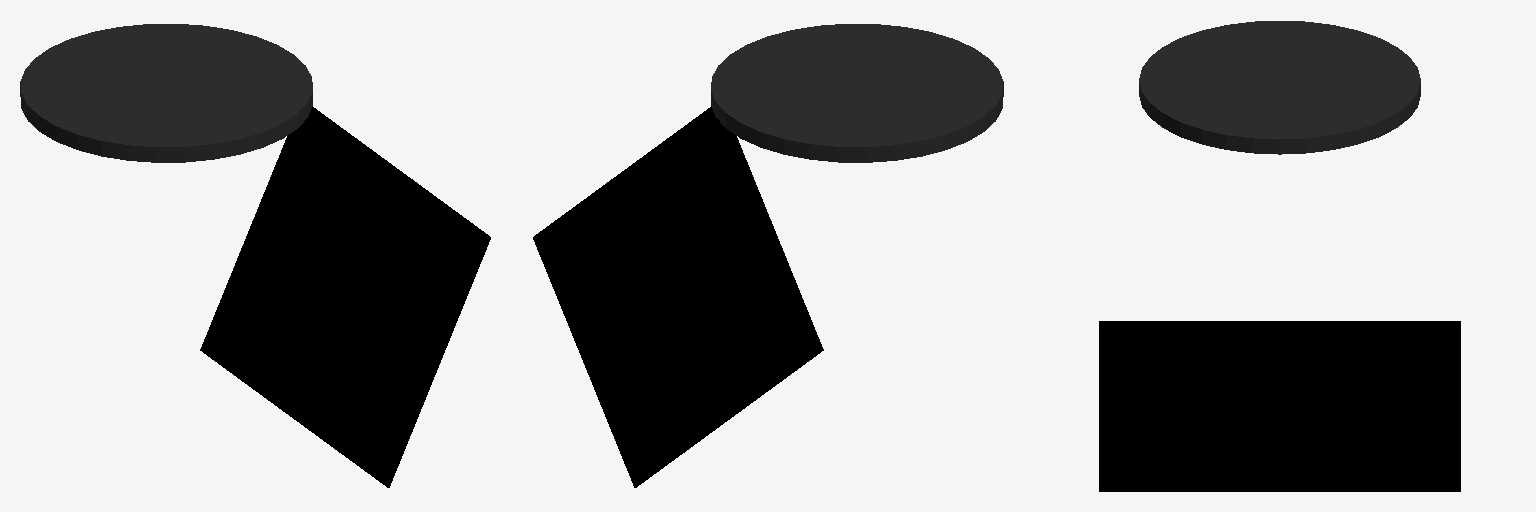
The robot description file, URDF, robot "baxter":
<?xml version="1.0"?>

<robot name="baxter">

  <link name="world" />

  <!-- First part: Torso -->
  <link name="base">
  </link>

  <link name="torso">
    <visual>
      <origin rpy="0 0 0" xyz="0 0 0"/>
      <geometry>
        <mesh filename="[local-path]/Research/commonData/robots/baxter/meshes/torso/base_link.DAE"/>
      </geometry>
    </visual>
    <collision>
      <origin rpy="0 0 0" xyz="0 0 0"/>
      <geometry>
        <mesh filename="[local-path]/Research/commonData/robots/baxter/meshes/torso/base_link_collision.DAE"/>
      </geometry>
    </collision>
    <inertial>
      <origin rpy="0 0 0" xyz="0.000000 0.000000 0.000000"/>
      <mass value="35.336455"/>
      <inertia ixx="1.849155" ixy="-0.000354" ixz="-0.154188" iyy="1.662671" iyz="0.003292" izz="0.802239"/>
    </inertial>
  </link>


  <link name="pedestal">
    <visual>
      <origin rpy="0 0 0" xyz="0 0 0"/>
      <geometry>
        <mesh filename="[local-path]/Research/commonData/robots/baxter/meshes/base/PEDESTAL.DAE"/>
      </geometry>
      <material name="darkgray">
        <color rgba=".2 .2 .2 1"/>
      </material>
    </visual>
    <collision>
      <origin rpy="0 0 0" xyz="0 0 0"/>
      <geometry>
        <mesh filename="[local-path]/Research/commonData/robots/baxter/meshes/base/pedestal_link_collision.DAE"/>
      </geometry>
    </collision>
    <inertial>
      <origin rpy="0 0 0" xyz="0 0 0"/>
      <mass value="60.86397744"/>
      <inertia ixx="5.0635929" ixy="0.00103417" ixz="0.80199628" iyy="6.08689388" iyz="0.00105311" izz="4.96191932"/>
    </inertial>
  </link>


  <link name="head">
    <visual>
      <origin rpy="0 0 0" xyz="0 0 .00953"/>
      <geometry>
        <mesh filename="[local-path]/Research/commonData/robots/baxter/meshes/head/H0.DAE"/>
      </geometry>
      <material name="darkgray">
        <color rgba=".2 .2 .2 1"/>
      </material>
    </visual>
    <collision>
      <origin rpy="0 0 0" xyz="0.0 0 0.0"/>
      <geometry>
        <sphere radius="0.001"/>
      </geometry>
    </collision>
    <inertial>
      <origin rpy="0 0 0" xyz="0 0 0"/>
      <mass value="0.547767"/>
      <inertia ixx="0.004641" ixy="0.000159" ixz="0.000242" iyy="0.003295" iyz="-0.001324" izz="0.003415"/>
    </inertial>
  </link>

  <link name="screen">
    <visual>
      <origin rpy="0 -1.57079632679 0" xyz="0 -.00953 -.0347"/>
      <geometry>
        <mesh filename="[local-path]/Research/commonData/robots/baxter/meshes/head/H1_rotY90.dae"/>
      </geometry>
      <material name="darkred">
        <color rgba=".5 .1 .1 1"/>
      </material>
    </visual>
    <collision>
      <origin rpy="0 0 0" xyz="0.0 0 0.0"/>
      <geometry>
        <sphere radius="0.001"/>
      </geometry>
    </collision>
    <inertial>
      <origin rpy="0 0 0" xyz="0 0 0"/>
      <mass value="0.440171"/>
      <inertia ixx="0.004006" ixy="0.000230" ixz="0.000002" iyy="0.002800" iyz="0.000029" izz="0.001509"/>
    </inertial>
  </link>

  <link name="sonar_ring">
    <visual>
      <origin rpy="0 0 0" xyz="-.0347 0 .00953"/>
      <geometry>
        <cylinder length="0.01" radius="0.085"/>
      </geometry>
      <material name="darkgray">
        <color rgba=".2 .2 .2 1"/>
      </material>
    </visual>
    <collision>
      <origin rpy="0 0 0" xyz="0.0 0 0.0"/>
      <geometry>
        <sphere radius="0.001"/>
      </geometry>
    </collision>
    <inertial>
      <origin rpy="0 0 0" xyz="0 0 0"/>
      <mass value="0.0001"/>
      <inertia ixx="1e-08" ixy="0" ixz="0" iyy="1e-08" iyz="0" izz="1e-08"/>
    </inertial>
  </link>

  <link name="display">
    <visual>
      <origin rpy="0.2617993877991494 0 0" xyz="0 0 0"/>
      <geometry>
        <box size="0.218 0.16 0.001"/>
      </geometry>
      <material name="black">
        <color rgba="0 0 0 1"/>
      </material>
    </visual>
    <inertial>
      <origin rpy="0 0 0" xyz="0 0 0"/>
      <mass value="0.0001"/>
      <inertia ixx="1e-08" ixy="0" ixz="0" iyy="1e-08" iyz="0" izz="1e-08"/>
    </inertial>
  </link>


  <joint name="root_joint" type="floating">
    <origin rpy="0 0 0" xyz="0 0 0"/>
    <parent link="world"/>
    <child link="base"/>
    <limit effort="50000" lower="-3.01" upper="3.01" velocity="10000"/>
  </joint>

  <joint name="torso_t0" type="fixed">
    <origin rpy="0 0 0" xyz="0 0 0"/>
    <parent link="base"/>
    <child link="torso"/>
    <limit effort="50000" lower="-3.01" upper="3.01" velocity="10000"/>
  </joint>

  <joint name="pedestal_fixed" type="fixed">
    <origin rpy="0 0 0" xyz="0.0 0.0 0.0"/>
    <parent link="torso"/>
    <child link="pedestal"/>
  </joint>

  <joint name="head_pan" type="revolute">
    <origin rpy="0 0 0" xyz="0.06 0 0.686"/>
    <axis xyz="0 0 1"/>
    <parent link="torso"/>
    <child link="head"/>
    <limit effort="50000" lower="-1.57079632679" upper="1.57079632679" velocity="10000"/>
    <dynamics damping="0.7" friction="0.0"/>
  </joint>

  <joint name="head_nod" type="fixed">
    <origin rpy="1.75057 0 1.57079632679" xyz=".1227 0 0"/>
    <parent link="head"/>
    <child link="screen"/>
  </joint>

  <joint name="display_joint" type="fixed">
    <origin rpy="0 0 0" xyz="0.0 -0.016 0.0"/>
    <parent link="screen"/>
    <child link="display"/>
  </joint>
  <joint name="sonar_s0" type="fixed">
    <origin rpy="0 0 0" xyz="0.0947 0 .817"/>
    <axis xyz="0 0 1"/>
    <parent link="torso"/>
    <child link="sonar_ring"/>
  </joint>

</robot>

--- What the picture shows (computed from the rendered views, not written in the file) ---
The picture shows the robot from 3 angles, left to right: view 1: azimuth 30°, elevation 25°; view 2: azimuth 150°, elevation 25°; view 3: azimuth 270°, elevation 25°; orthographic projection.
Model baxter with 8 links and 7 joints (1 revolute, 5 fixed, 1 floating), rooted at world, posed all joints at 0.
Links seen in each view (by area): view 1: display, sonar_ring; view 2: display, sonar_ring; view 3: display, sonar_ring.
Boxes of the visible links, x1=… form: display: x1=200, y1=107, x2=490, y2=487; sonar_ring: x1=20, y1=24, x2=312, y2=162; display: x1=533, y1=107, x2=823, y2=487; sonar_ring: x1=711, y1=24, x2=1003, y2=162; display: x1=1099, y1=321, x2=1460, y2=491; sonar_ring: x1=1139, y1=21, x2=1420, y2=154.
Bounding box of the posed robot: 0.2395 × 0.218 × 0.2338 m (x, y, z).
Geometry: only primitive shapes (box / cylinder / sphere) drawn; not drawn: 4 mesh visuals (reference in a form the renderer does not follow).